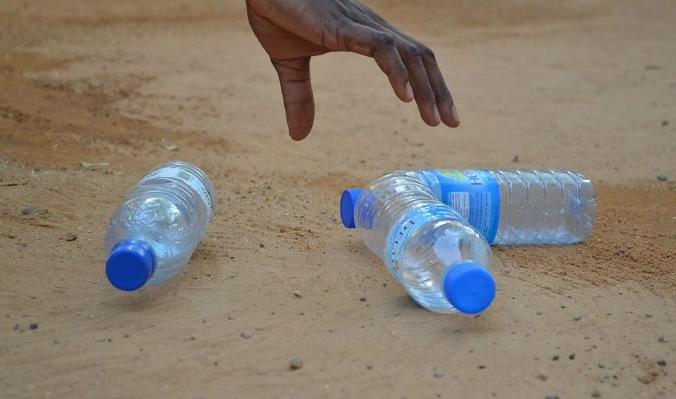Plastic: (343, 157, 602, 320), (92, 147, 223, 308)
